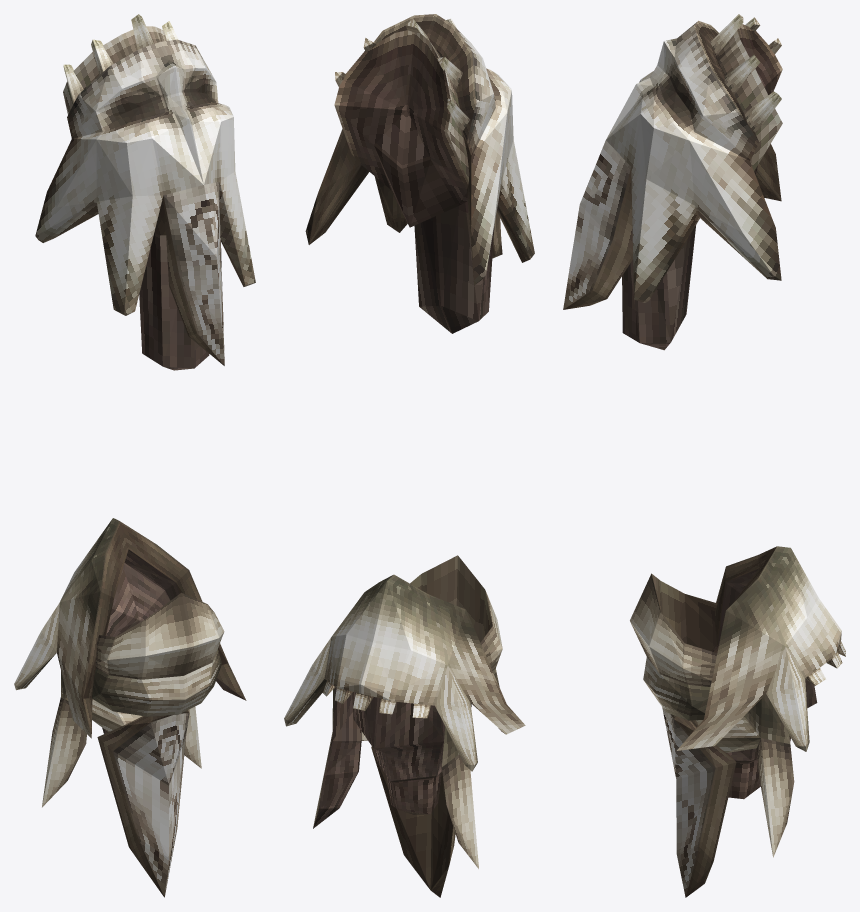
File: arms6016.obj
The picture shows the model from 3 angles, left to right: view 1: azimuth 30°, elevation 25°; view 2: azimuth 150°, elevation 25°; view 3: azimuth 270°, elevation 25°; orthographic projection. The views are drawn at different scales.
Parts seen in each view (by area): view 1: arms6016; view 2: arms6016; view 3: arms6016.
Part boxes in pixels (bbox=[...]): arms6016: bbox=[14, 14, 255, 897]; arms6016: bbox=[284, 14, 534, 897]; arms6016: bbox=[563, 14, 845, 897].
Size of the model in its own units: 0.7196 by 3.24 by 0.9387.
1 material, 1 textured.
